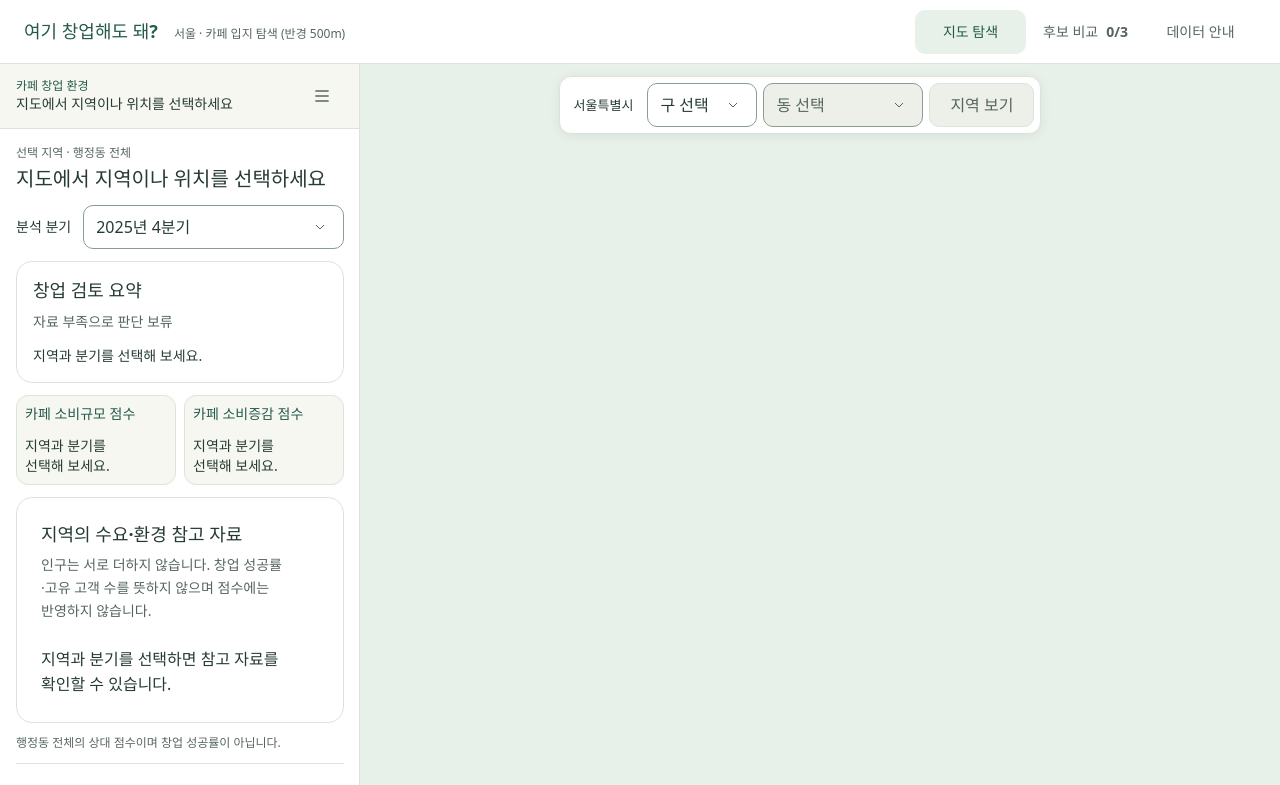
shows only scores in the panel, one comparison entry, and keyboard guidance in the guide
Select "종로구" in the dropdown named "자치구": (702, 105) [647,83,757,127]
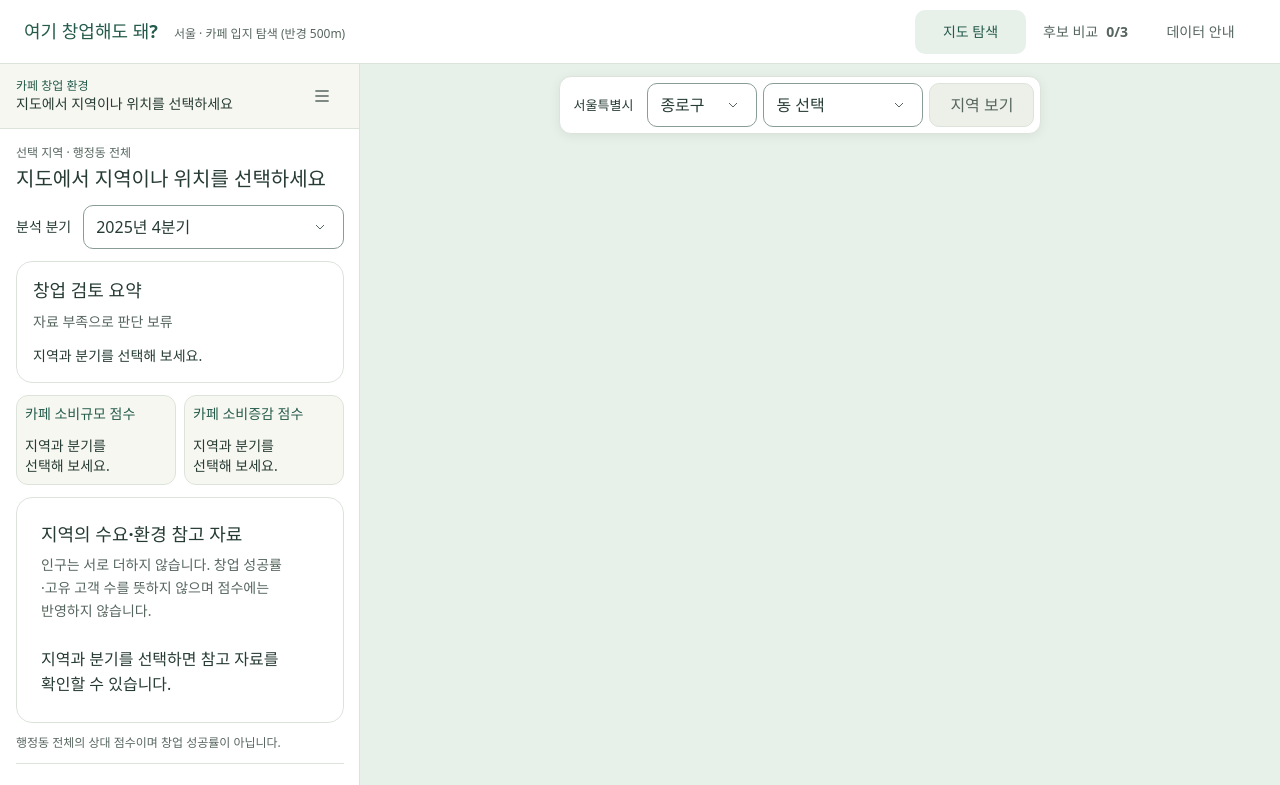
Select "청운효자동" in the dropdown named "행정동": (843, 105) [763,83,923,127]
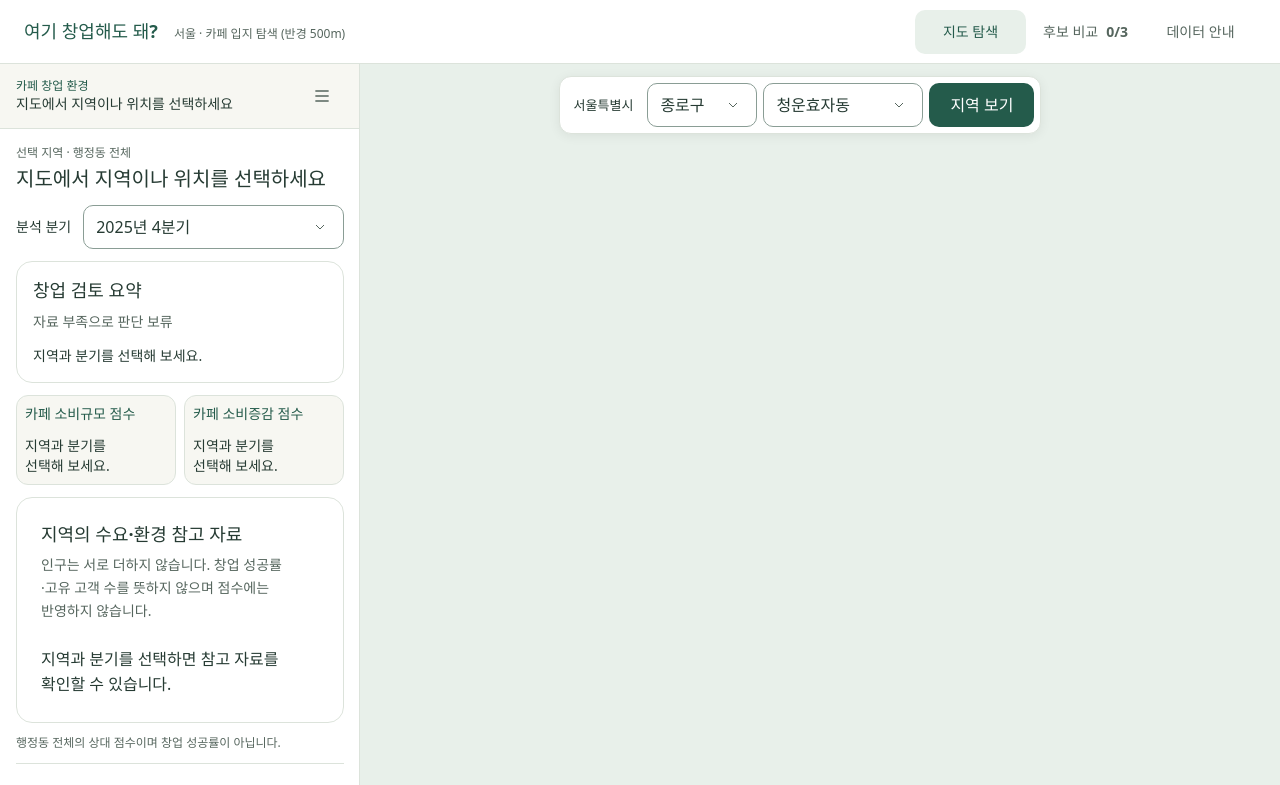
Click the button "지역 보기": (982, 105) [929,83,1034,127]
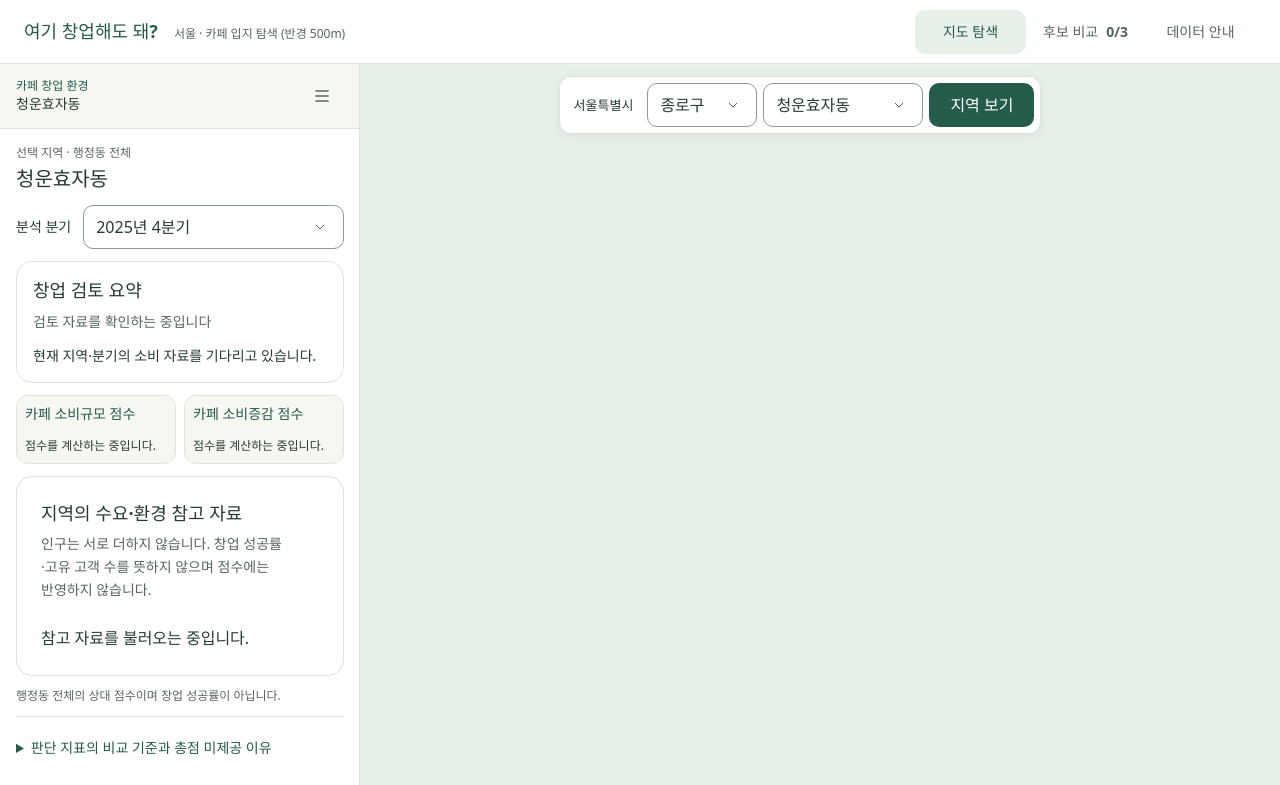
Expected: the number of buttons "후보 비교 0/3" is 1, [1030,10,1141,54]
Click the button "데이터 안내": (1200, 32) [1145,10,1256,54]
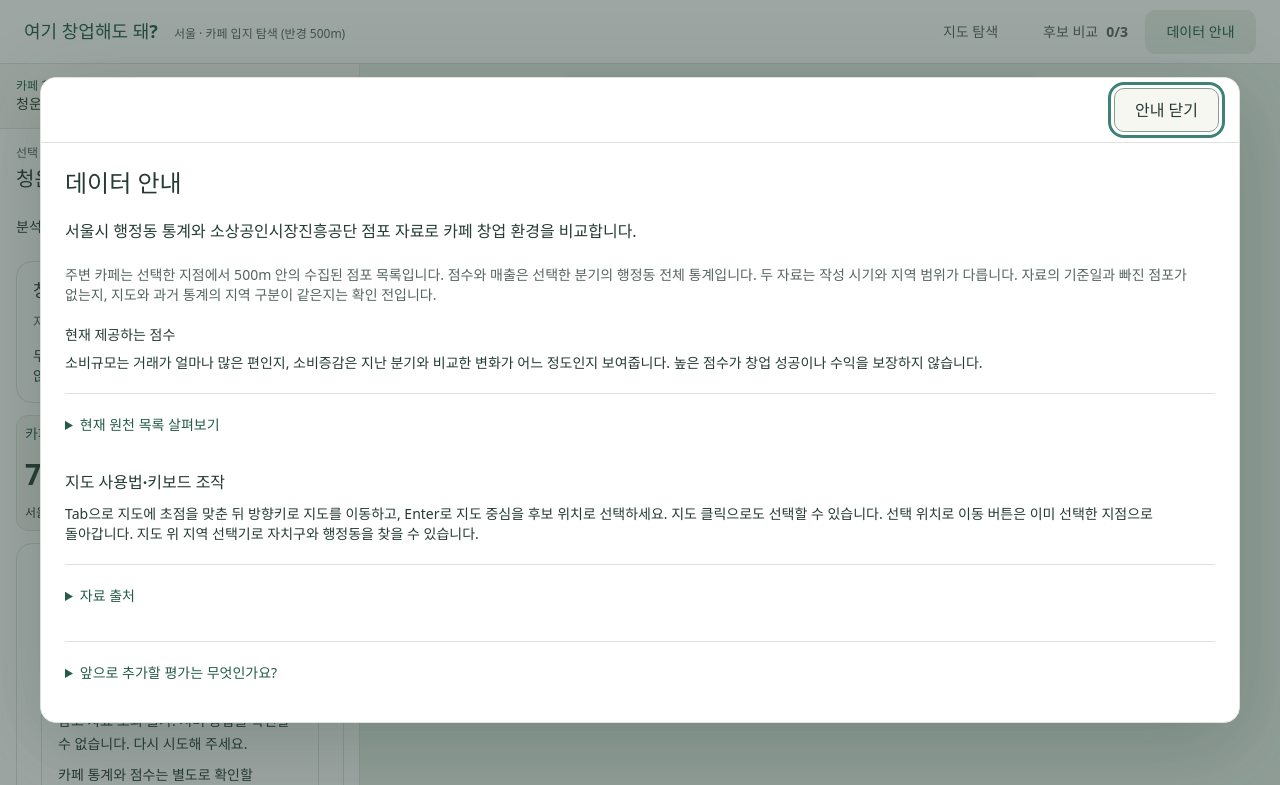
Now the heading "지도 사용법·키보드 조작" is shown, box [65,471,225,493]
